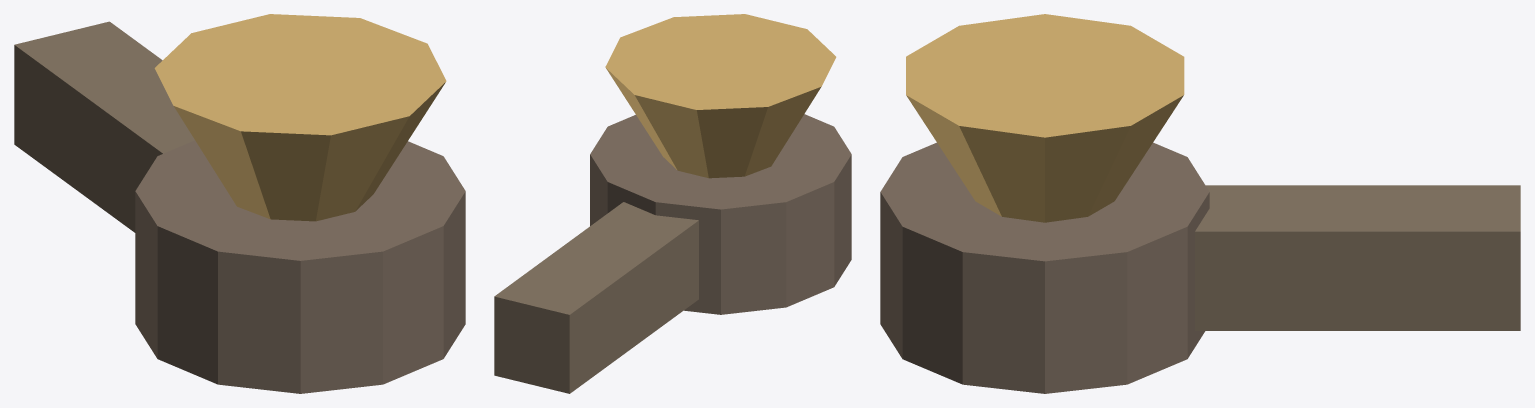
The model's file is torch_wall.glb.
The picture shows the model from 3 angles, left to right: view 1: azimuth 30°, elevation 25°; view 2: azimuth 150°, elevation 25°; view 3: azimuth 270°, elevation 25°; orthographic projection. The views are drawn at different scales.
Parts seen in each view (by area): view 1: world; view 2: world; view 3: world.
Boxes of the visible parts, x1,y1,x2,y2 form: world: (14,14,465,393); world: (494,14,851,393); world: (880,14,1520,393).
Bounding box in the file's own units: 0.36 × 0.3 × 0.7.
